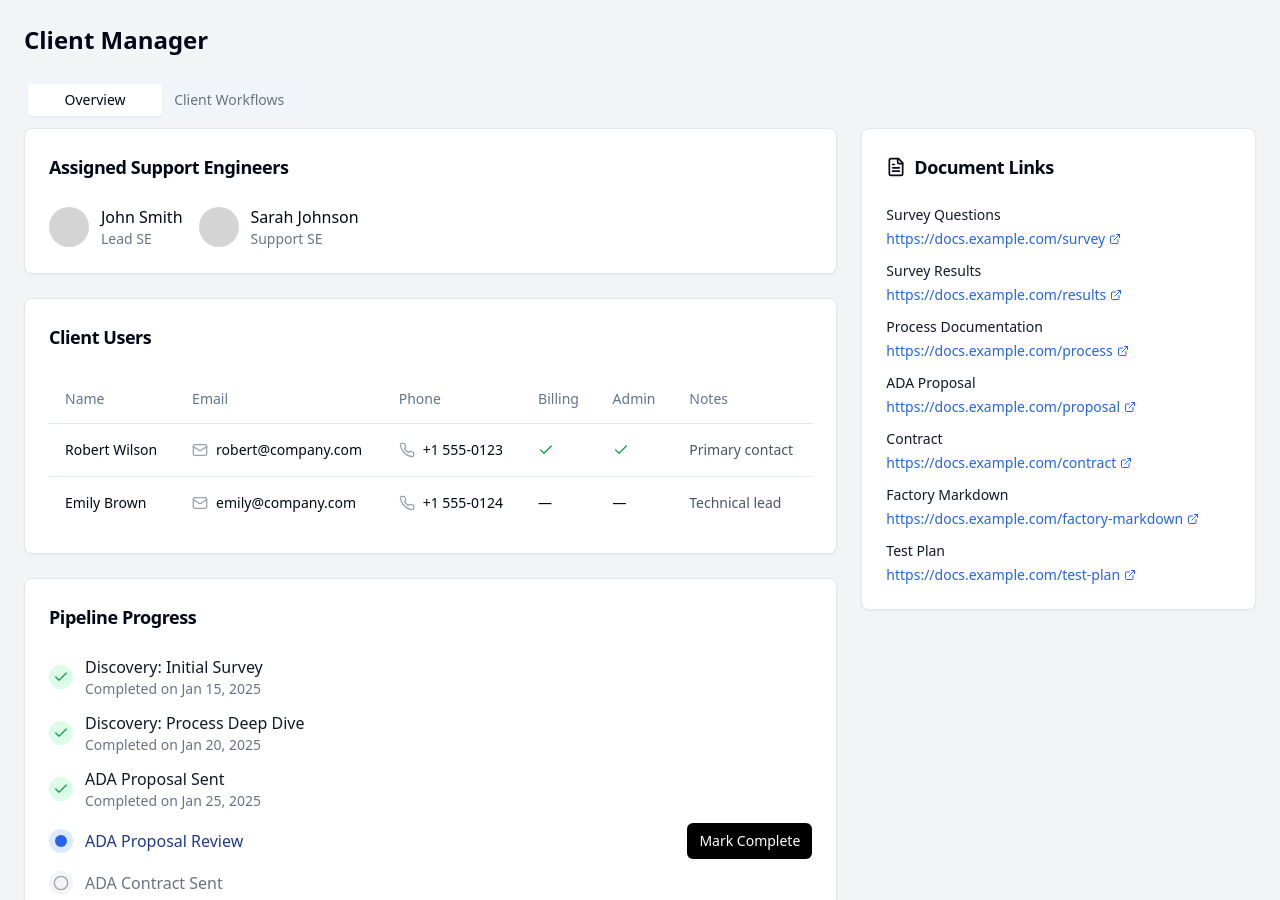
Clients › can switch between tabs
The image size is (1280, 900).
Note: Click on Client Workflows tab
Click the tab "Client Workflows". click: (229,100)
box: [162,84,296,116]
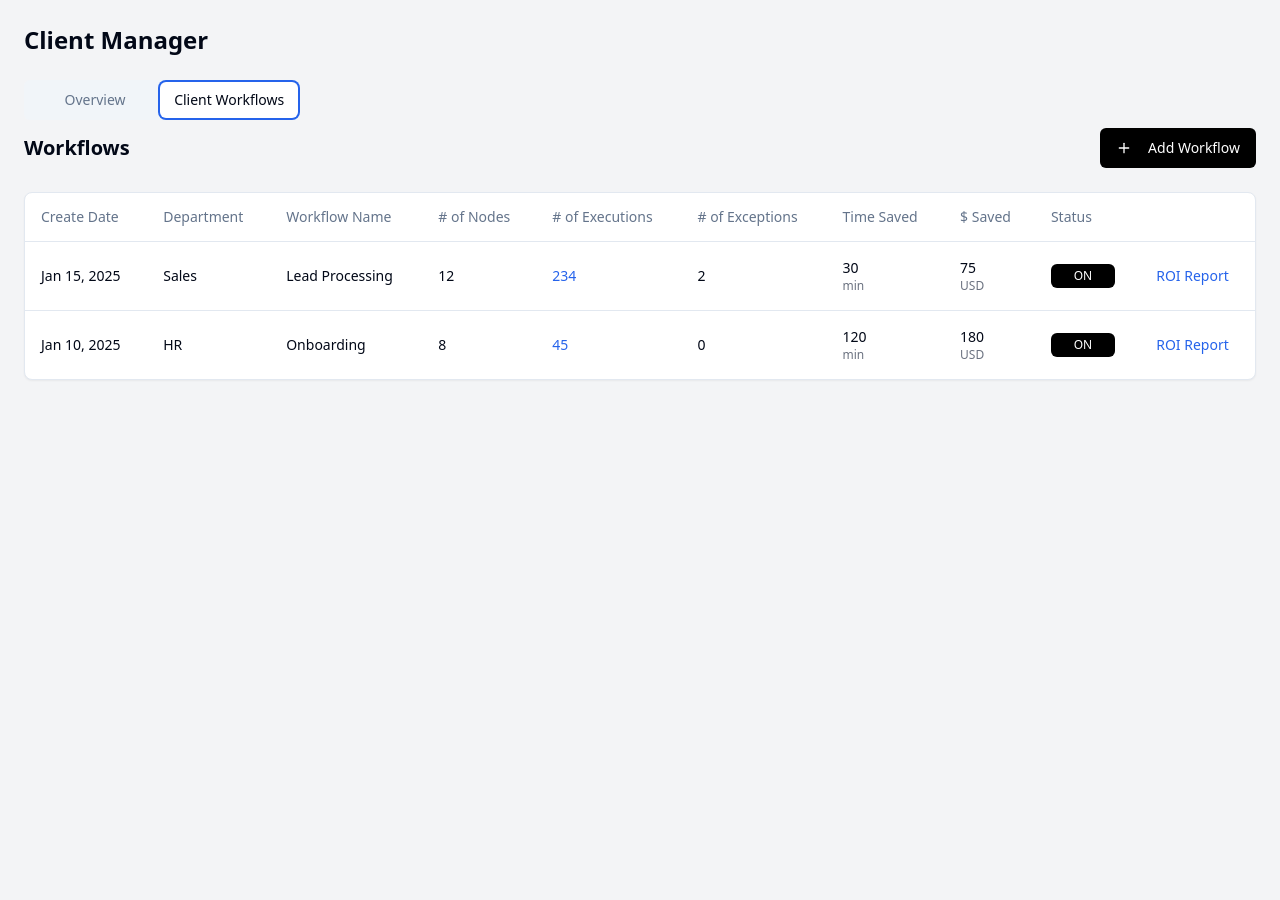
Expected: the heading "Workflows" is shown, [24,134,130,162]
Expected: the button "Add Workflow" is shown, [1100,128,1256,168]
